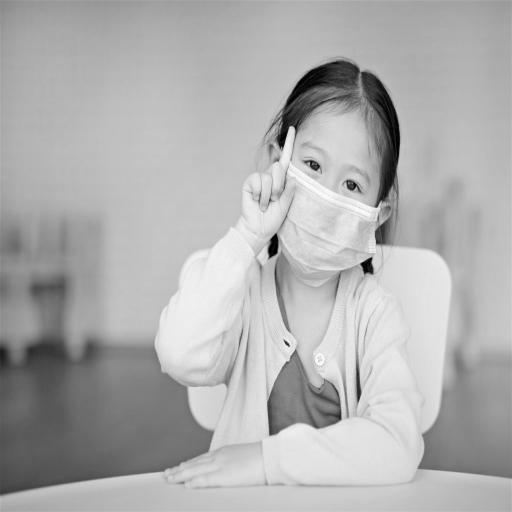mask: (257, 50, 413, 302)
